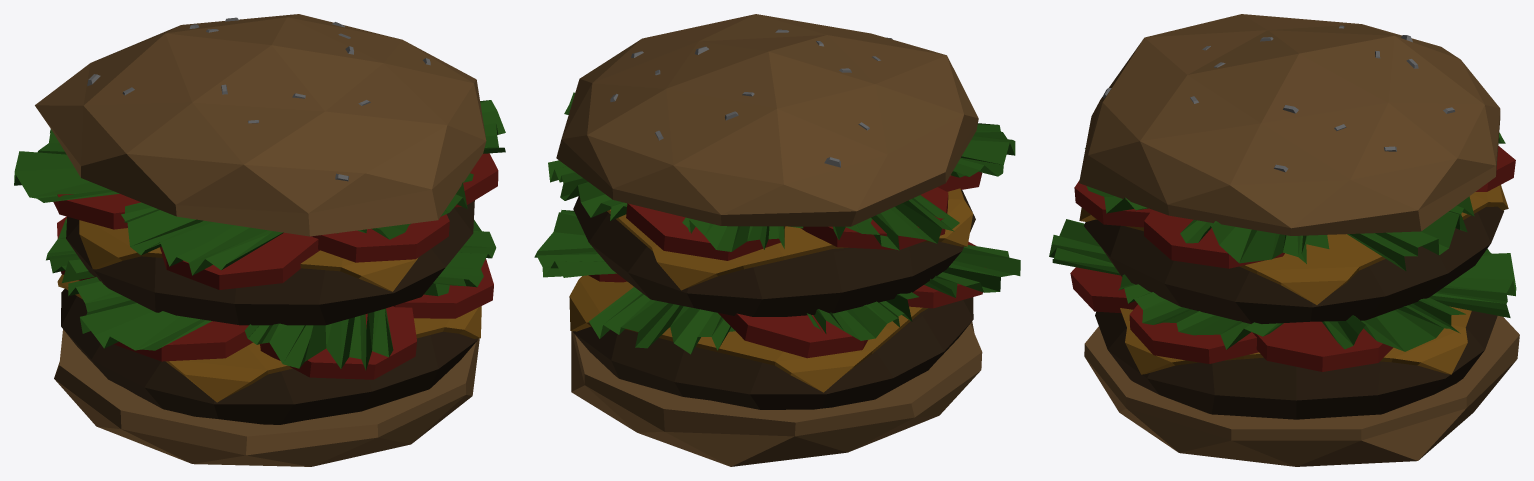
Rendered from BurgerLarge.obj.
3 views of the same model, side by side, from view 1: azimuth 30°, elevation 25°; view 2: azimuth 150°, elevation 25°; view 3: azimuth 270°, elevation 25° (orthographic). The views are drawn at different scales.
Parts seen in each view (by area): view 1: BurgerLarge_Plane.005; view 2: BurgerLarge_Plane.005; view 3: BurgerLarge_Plane.005.
Boxes of the visible parts, box(x1,y1,x2,y2) form: BurgerLarge_Plane.005: box(14, 14, 505, 466); BurgerLarge_Plane.005: box(534, 14, 1020, 466); BurgerLarge_Plane.005: box(1049, 14, 1519, 466).
Size of the model in its own units: 1.72 by 1.45 by 1.67.
